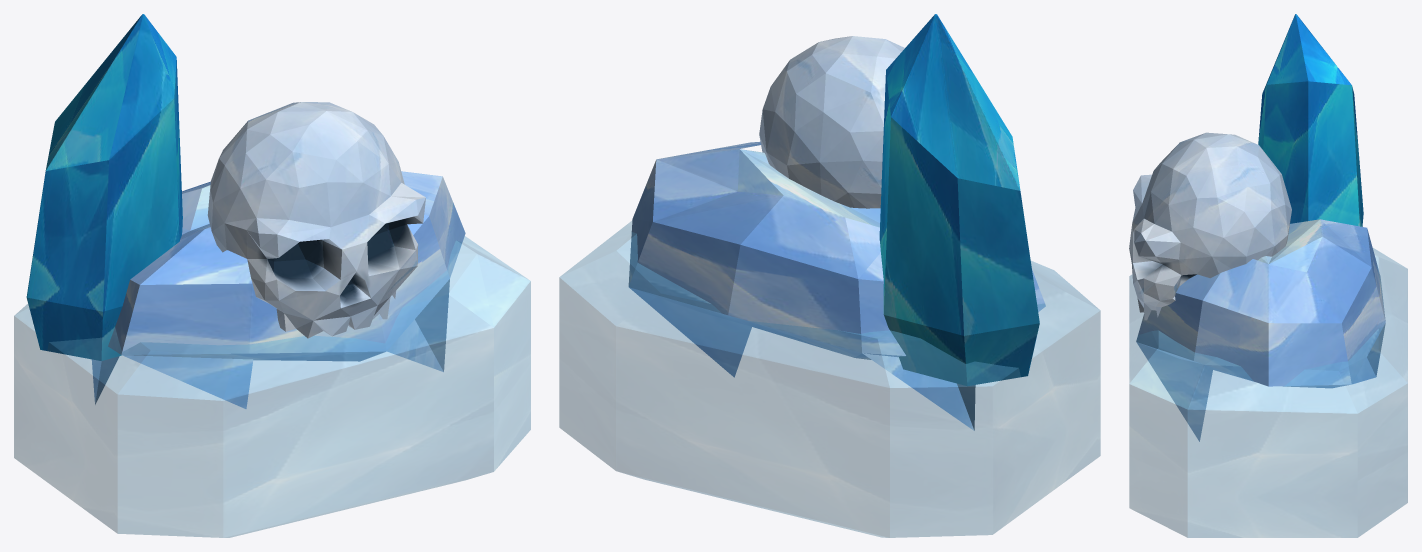
The model's file is warden-haunted-ice-kit-v1.glb.
3 views of the same model, side by side, from view 1: azimuth 30°, elevation 25°; view 2: azimuth 150°, elevation 25°; view 3: azimuth 270°, elevation 25° (orthographic). The views are drawn at different scales.
Visible parts, largest first — view 1: Block, Skull, Crystal, Rime; view 2: Block, Rime, Crystal, Skull; view 3: Block, Rime, Skull, Crystal.
Boxes of the visible parts, left/top/right/bottom form: Block: left=14, top=236, right=530, bottom=537; Skull: left=207, top=102, right=425, bottom=338; Crystal: left=26, top=14, right=182, bottom=360; Rime: left=92, top=171, right=465, bottom=408; Block: left=559, top=221, right=1100, bottom=537; Rime: left=628, top=141, right=1045, bottom=430; Crystal: left=879, top=14, right=1039, bottom=386; Skull: left=759, top=36, right=904, bottom=208; Block: left=1129, top=248, right=1407, bottom=537; Rime: left=1136, top=219, right=1385, bottom=441; Skull: left=1129, top=132, right=1291, bottom=320; Crystal: left=1258, top=14, right=1363, bottom=226.
Bounding box in the file's own units: 1.3 × 1.32 × 0.8406.
4 materials, 4 textured.
